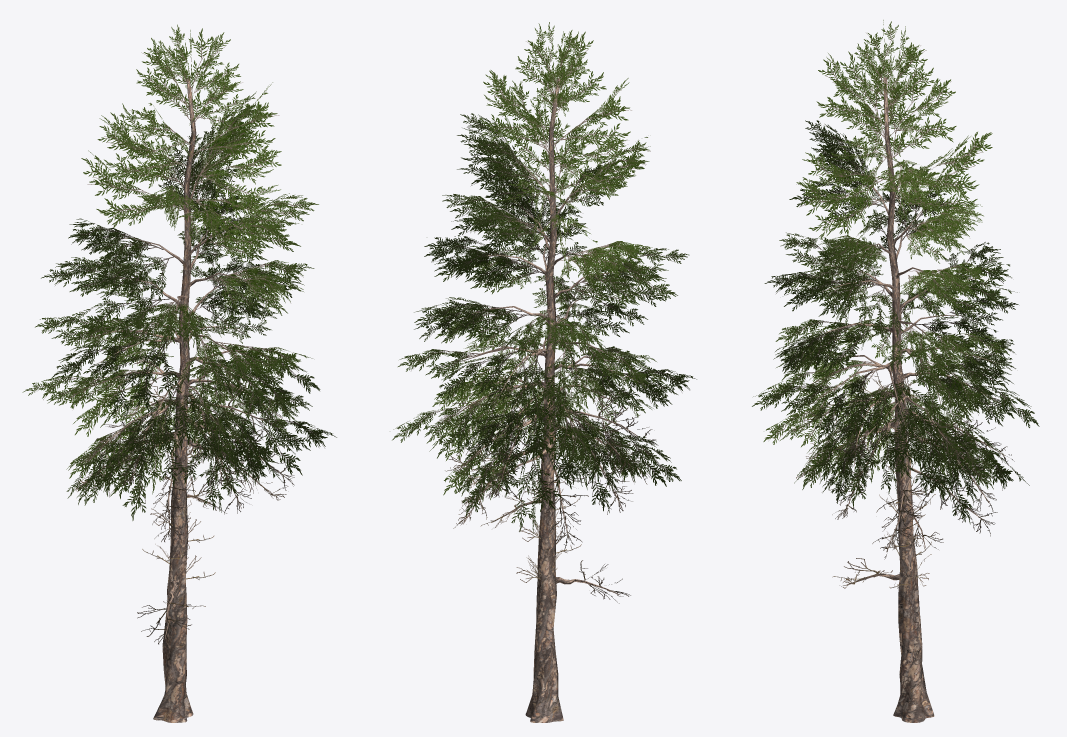
3 views of the same model, side by side, from view 1: azimuth 30°, elevation 25°; view 2: azimuth 150°, elevation 25°; view 3: azimuth 270°, elevation 25° (orthographic). The views are drawn at different scales.
Parts seen in each view (by area): view 1: Tree_1, Tree_0, Tree_2; view 2: Tree_1, Tree_0, Tree_2; view 3: Tree_1, Tree_0, Tree_2.
Part boxes in pixels (x1,y1,x2,y2): Tree_1: (22, 24, 336, 520); Tree_0: (78, 78, 285, 722); Tree_2: (72, 353, 294, 644); Tree_1: (392, 22, 696, 533); Tree_0: (447, 78, 648, 722); Tree_2: (437, 358, 658, 603); Tree_1: (752, 20, 1039, 524); Tree_0: (797, 77, 1005, 722); Tree_2: (786, 370, 1014, 588).
Size of the model in its own units: 1.73 by 4.35 by 1.77.
3 materials, 3 textured.
